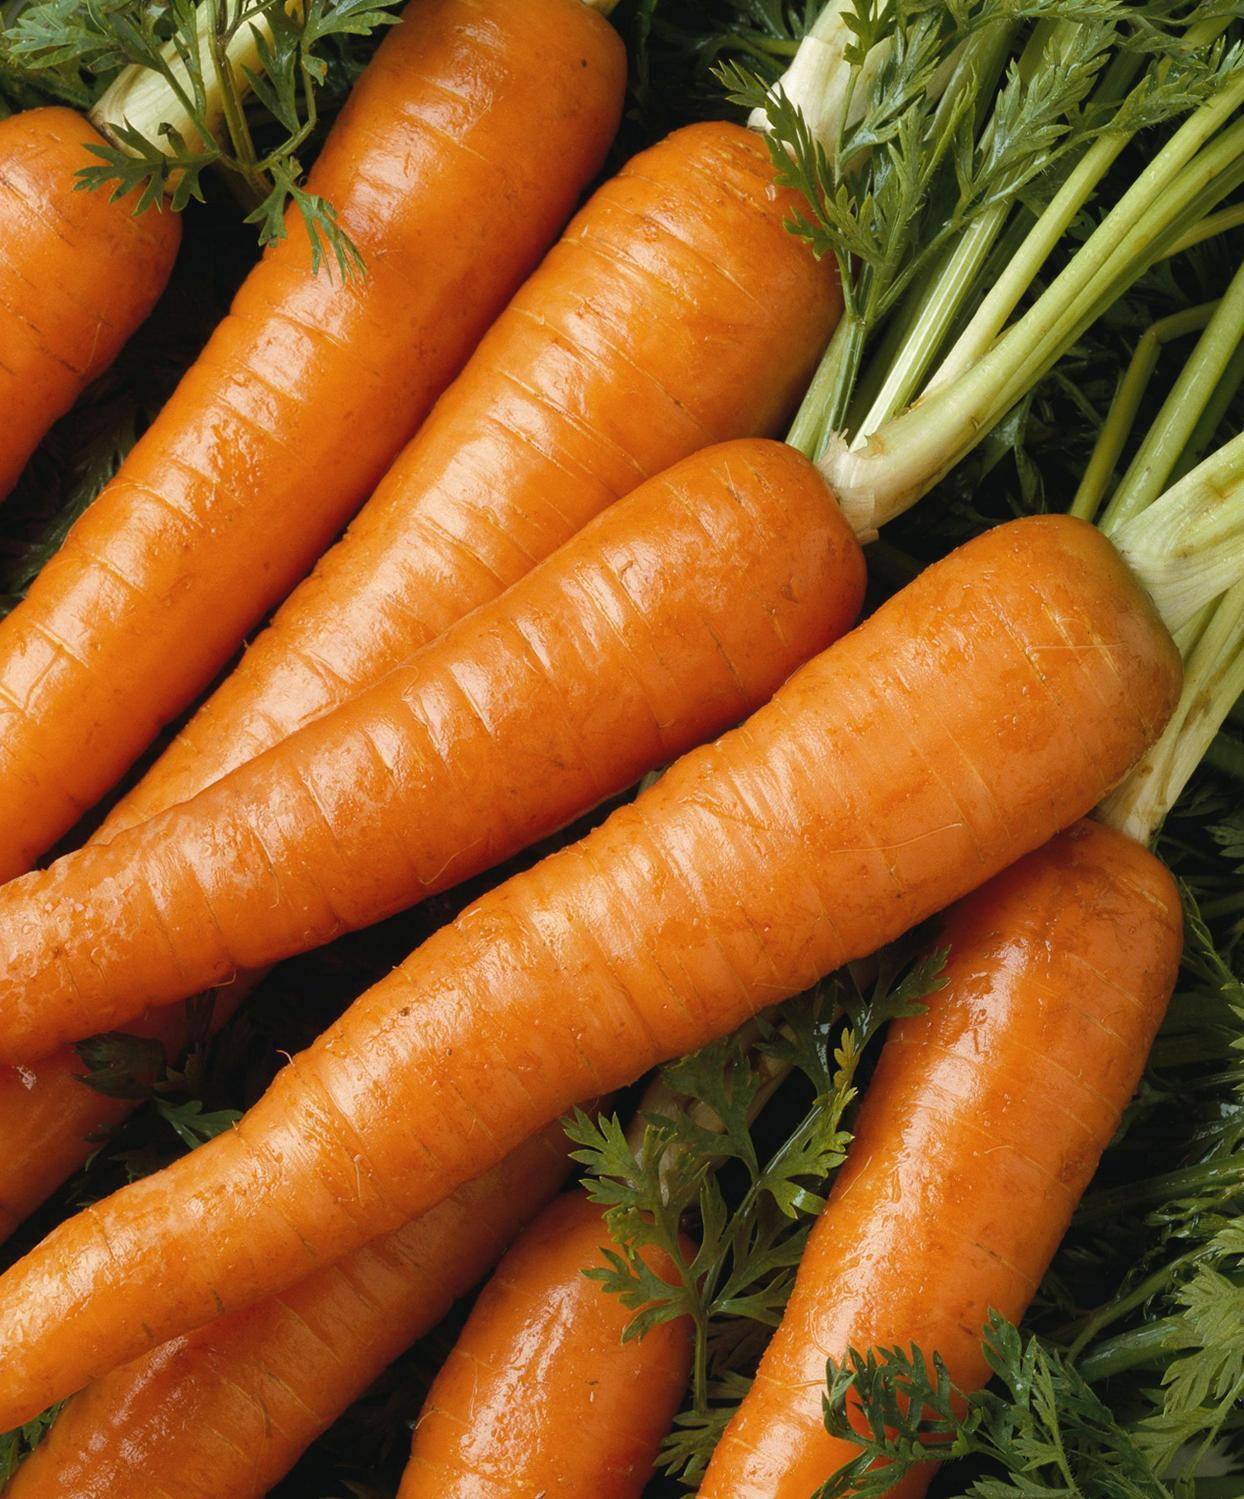carrot: (123, 22, 1037, 1490), (7, 444, 1199, 1499), (0, 78, 196, 478)
